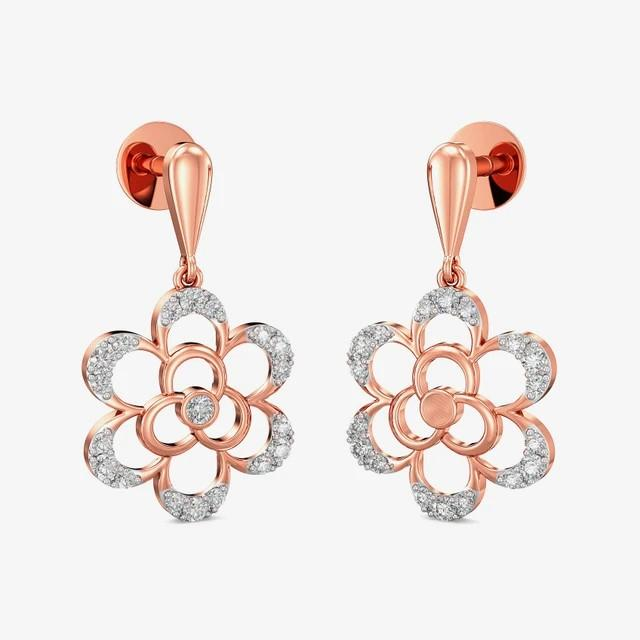missing gem: (423, 394, 453, 426)
